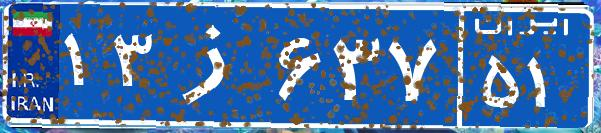1: (57, 26, 110, 107), (525, 38, 570, 115)
3: (330, 28, 385, 110), (110, 28, 158, 105)
5: (475, 38, 525, 113)
6: (273, 28, 330, 110)
7: (385, 28, 445, 110)
ز: (158, 15, 273, 115)
